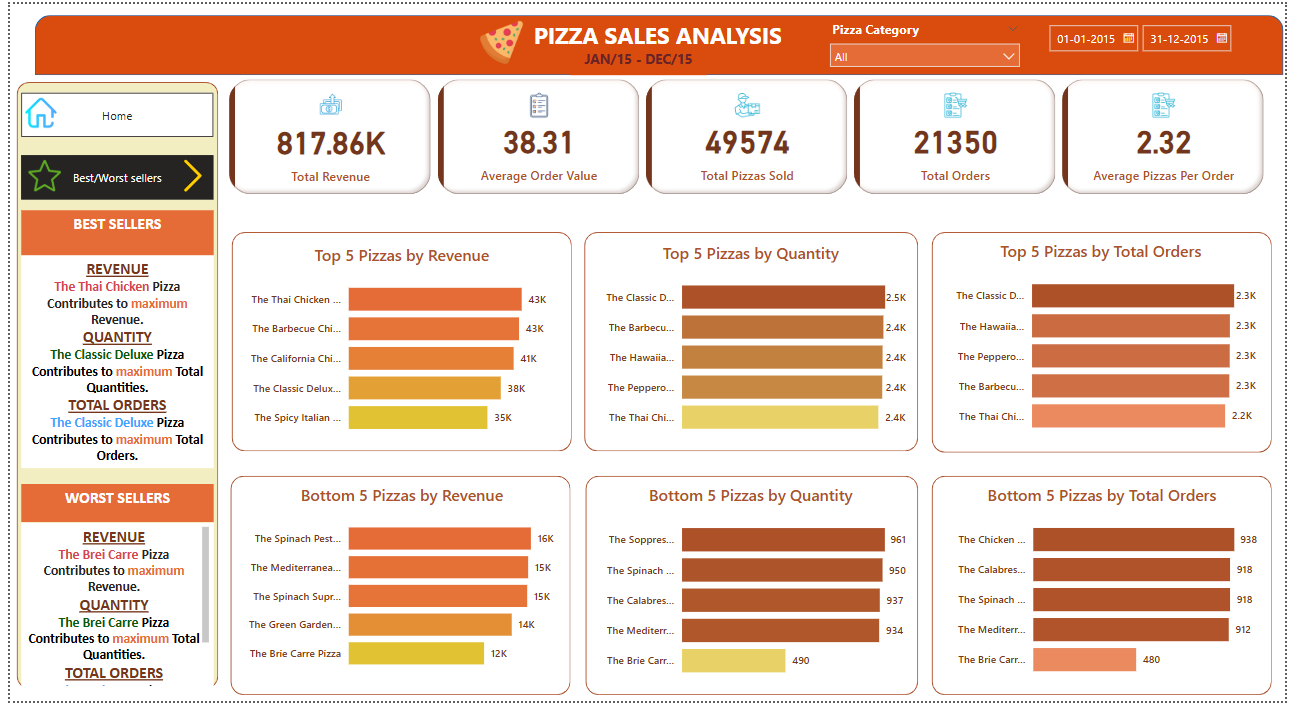

The page's visual inventory and layout, read from the dashboard file:
{"tool":"powerbi","page":{"name":"Best/Worst sellers","canvas":[1500,820],"ordinal":1},"visuals":[{"type":"cardVisual","fields":{"Data":["pizza_sales.Total Revenue","pizza_sales.Average Order Value","pizza_sales.Total Pizzas Sold","pizza_sales.Total Orders","pizza_sales.Average Pizzas Per Order"]},"box":[252.9,84.3,1228.6,145.7],"z":0},{"type":"shape","box":[29.4,13.7,1468.6,70.6],"z":1000},{"type":"textbox","box":[595.7,12.9,332.9,64.3],"z":2000},{"type":"image","box":[547.1,12.9,62.9,64.3],"z":3000},{"type":"shape","box":[253.6,260.9,415.9,273.9],"z":4000},{"type":"textbox","box":[12.9,241.4,225.7,40],"z":5000},{"type":"shape","box":[0,84.3,252.9,729.4],"z":6000},{"type":"textbox","box":[13,242,226.1,53.6],"z":7000},{"type":"textbox","box":[13,295.7,226.1,250.7],"z":8000},{"type":"textbox","box":[13,565.2,226.1,44.9],"z":9000},{"type":"textbox","box":[13,610.1,226.1,197.1],"z":10000},{"type":"textbox","box":[658.8,49,160.8,35.3],"z":11000},{"type":"slicer","fields":{"Values":["pizza_sales.pizza_category"]},"box":[955.1,14.5,243.5,62.3],"z":12000},{"type":"slicer","fields":{"Values":["pizza_sales.order_date"]},"box":[1210.1,14.5,260.9,62.3],"z":13000},{"type":"shape","box":[668.1,260.9,408.7,273.9],"z":14000},{"type":"shape","box":[1076.8,260.9,415.9,275.4],"z":15000},{"type":"shape","box":[252.2,546.4,415.9,273.9],"z":16000},{"type":"shape","box":[669.6,546.4,407.2,273.9],"z":17000},{"type":"shape","box":[1076.8,546.4,415.9,273.9],"z":18000},{"type":"barChart","title":"Top 5 Pizzas by Revenue","fields":{"Category":["pizza_sales.pizza_name"],"Y":["pizza_sales.Total Revenue"]},"box":[265.2,282.6,392.8,237.7],"z":19000},{"type":"barChart","title":"Bottom 5 Pizzas by Revenue","fields":{"Category":["pizza_sales.pizza_name"],"Y":["pizza_sales.Total Revenue"]},"box":[265.2,565.2,392.8,231.9],"z":20000},{"type":"barChart","title":"Top 5 Pizzas by Quantity","fields":{"Category":["pizza_sales.pizza_name"],"Y":["pizza_sales.Total Pizzas Sold"]},"box":[684.1,279.7,375.4,240.6],"z":21000},{"type":"barChart","title":"Bottom 5 Pizzas by Quantity","fields":{"Category":["pizza_sales.pizza_name"],"Y":["pizza_sales.Total Pizzas Sold"]},"box":[684.1,565.2,375.4,242],"z":22000},{"type":"barChart","title":"Top 5 Pizzas by Total Orders","fields":{"Category":["pizza_sales.pizza_name"],"Y":["pizza_sales.Total Orders"]},"box":[1095.7,278.3,375.4,240.6],"z":23000},{"type":"barChart","title":"Bottom 5 Pizzas by Total Orders","fields":{"Category":["pizza_sales.pizza_name"],"Y":["pizza_sales.Total Orders"]},"box":[1097.1,565.2,375.4,240.6],"z":24000},{"type":"pageNavigator","box":[13,104.3,226.1,52.2],"z":25000},{"type":"pageNavigator","box":[13,178.3,226.1,52.2],"z":26000},{"type":"image","box":[13,100,46.4,56.5],"z":27000},{"type":"image","box":[0,178.3,81.2,47.8],"z":28000},{"type":"image","box":[191.3,178.3,47.8,47.8],"z":29000}]}

Visuals, with their boxes in screenshot pixels (x1, y1, x2, y2), scaled from the page's 1500x820 canvas onto the 1294x710 screenshot:
cardVisual - pizza_sales.Total Revenue x pizza_sales.Average Order Value: (x1=218, y1=73, x2=1278, y2=199)
shape: (x1=25, y1=12, x2=1292, y2=73)
textbox: (x1=514, y1=11, x2=801, y2=67)
image: (x1=472, y1=11, x2=526, y2=67)
shape: (x1=219, y1=226, x2=578, y2=463)
textbox: (x1=11, y1=209, x2=206, y2=244)
shape: (x1=0, y1=73, x2=218, y2=705)
textbox: (x1=11, y1=210, x2=206, y2=256)
textbox: (x1=11, y1=256, x2=206, y2=473)
textbox: (x1=11, y1=489, x2=206, y2=528)
textbox: (x1=11, y1=528, x2=206, y2=699)
textbox: (x1=568, y1=42, x2=707, y2=73)
slicer - pizza_sales.pizza_category: (x1=824, y1=13, x2=1034, y2=66)
slicer - pizza_sales.order_date: (x1=1044, y1=13, x2=1269, y2=66)
shape: (x1=576, y1=226, x2=929, y2=463)
shape: (x1=929, y1=226, x2=1288, y2=464)
shape: (x1=218, y1=473, x2=576, y2=709)
shape: (x1=578, y1=473, x2=929, y2=709)
shape: (x1=929, y1=473, x2=1288, y2=709)
"Top 5 Pizzas by Revenue" barChart: (x1=229, y1=245, x2=568, y2=451)
"Bottom 5 Pizzas by Revenue" barChart: (x1=229, y1=489, x2=568, y2=690)
"Top 5 Pizzas by Quantity" barChart: (x1=590, y1=242, x2=914, y2=451)
"Bottom 5 Pizzas by Quantity" barChart: (x1=590, y1=489, x2=914, y2=699)
"Top 5 Pizzas by Total Orders" barChart: (x1=945, y1=241, x2=1269, y2=449)
"Bottom 5 Pizzas by Total Orders" barChart: (x1=946, y1=489, x2=1270, y2=698)
pageNavigator: (x1=11, y1=90, x2=206, y2=136)
pageNavigator: (x1=11, y1=154, x2=206, y2=200)
image: (x1=11, y1=87, x2=51, y2=136)
image: (x1=0, y1=154, x2=70, y2=196)
image: (x1=165, y1=154, x2=206, y2=196)
